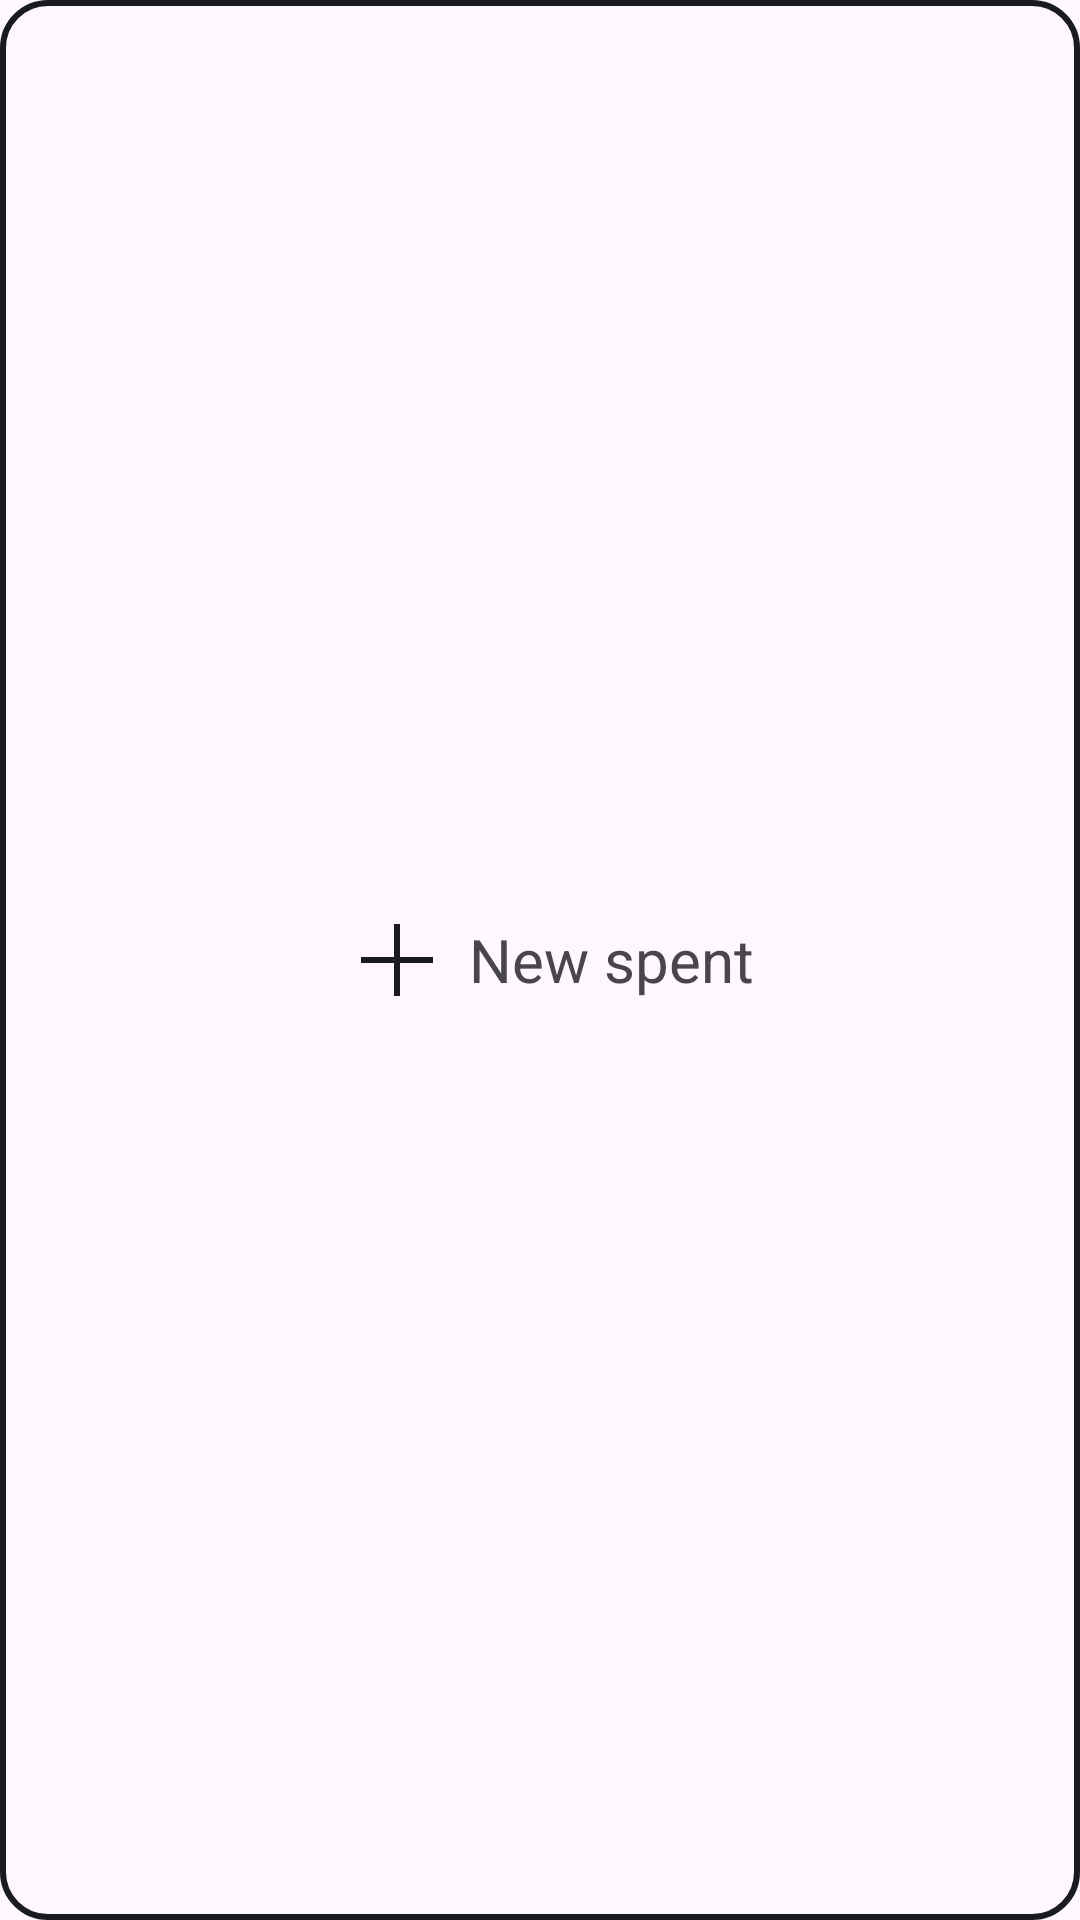

Point at icon controls on the screen. Image size 1080 × 1920, points as (x,y).
add: (397,960)
